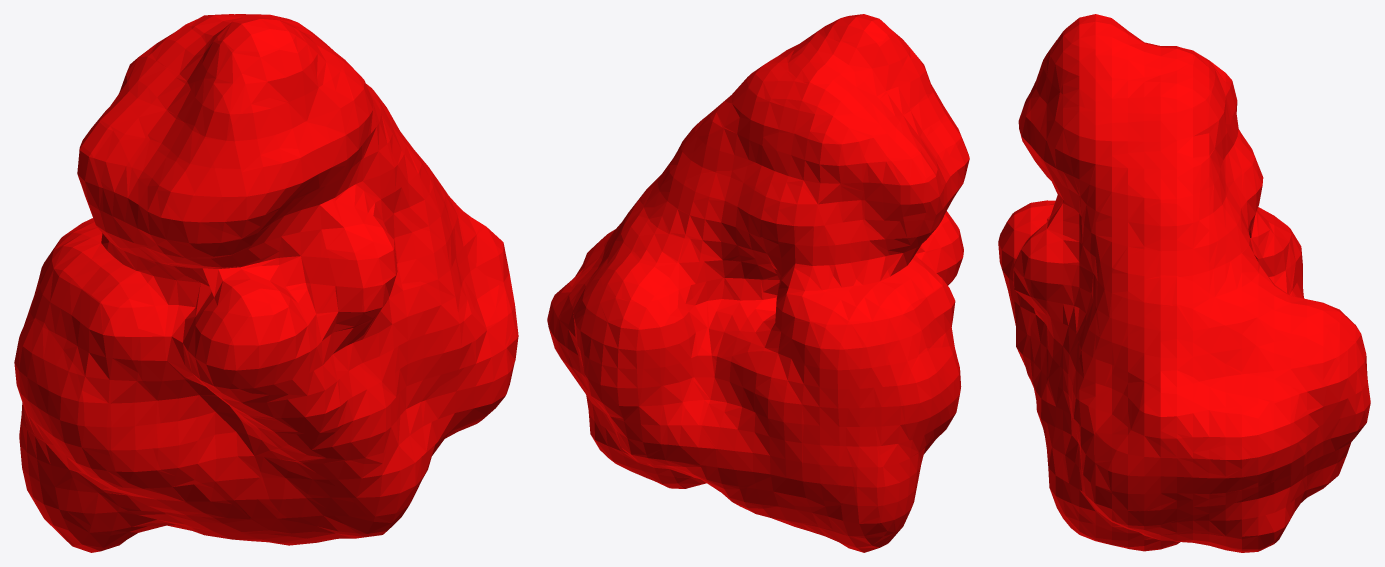
The model's file is ispB_coarse.dae.
3 renders of one model, left to right at view 1: azimuth 30°, elevation 25°; view 2: azimuth 150°, elevation 25°; view 3: azimuth 270°, elevation 25°, orthographic. The views are drawn at different scales.
Visible parts, largest first — view 1: ispB; view 2: ispB; view 3: ispB.
Part boxes in pixels (<box>): ispB: <box>14,14,518,552</box>; ispB: <box>547,14,969,552</box>; ispB: <box>998,14,1370,552</box>.
Bounding box in the file's own units: 54.8 × 65.27 × 44.91.
